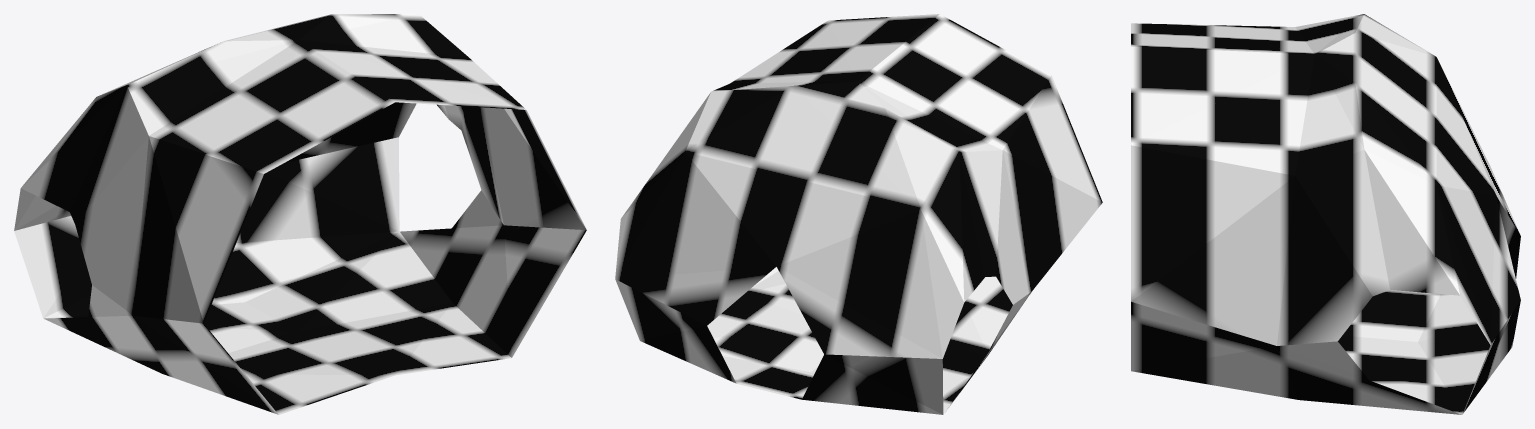
File: initarpl5.dae
3 renders of one model, left to right at view 1: azimuth 30°, elevation 25°; view 2: azimuth 150°, elevation 25°; view 3: azimuth 270°, elevation 25°, orthographic. The views are drawn at different scales.
Visible parts, largest first — view 1: armor; view 2: armor; view 3: armor.
Part boxes in pixels (x1=…): armor: x1=14, y1=14, x2=586, y2=414; armor: x1=615, y1=14, x2=1102, y2=414; armor: x1=1131, y1=14, x2=1520, y2=414.
Size of the model in its own units: 1.15 by 1.01 by 0.8445.
1 material, 1 textured.
